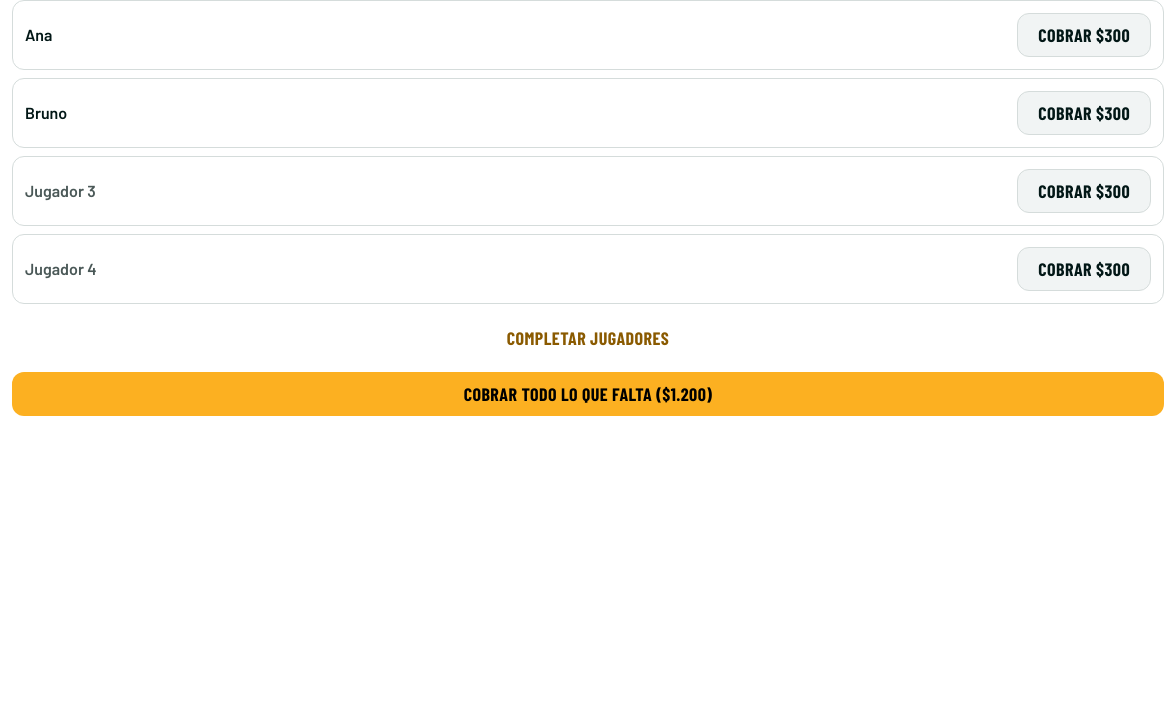
Test: BookingPlayers › charges one player and says so in the card
Click the button with aria-label "Cobrar $300 a Bruno" at (1084,113), box [1017,91,1151,135]
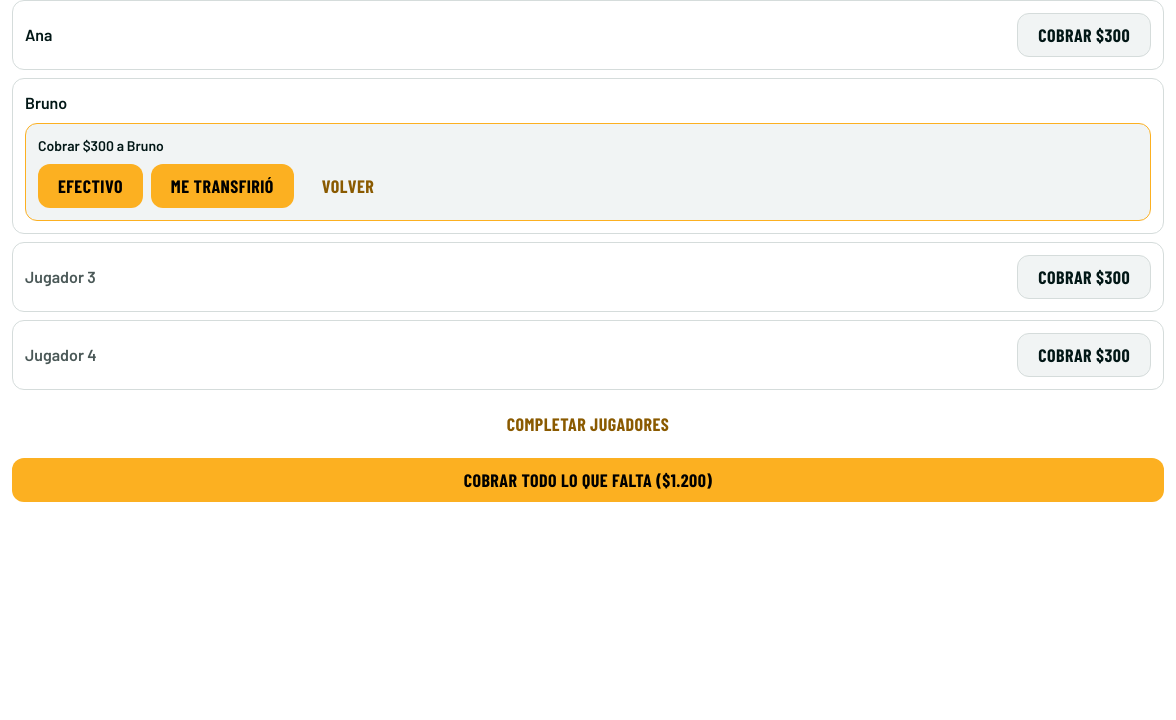
Click the button "Efectivo" at (90,186), box [38,164,143,208]
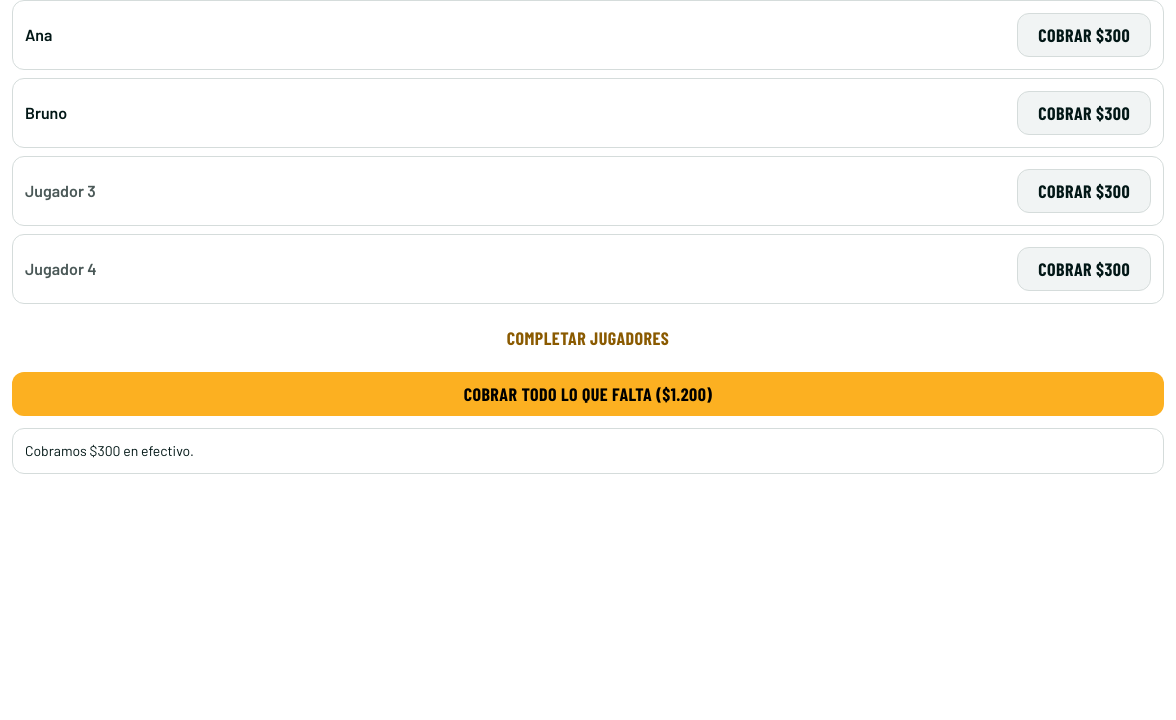
Now the message reads "Cobramos $300 en efectivo.", box [25,442,194,459]
